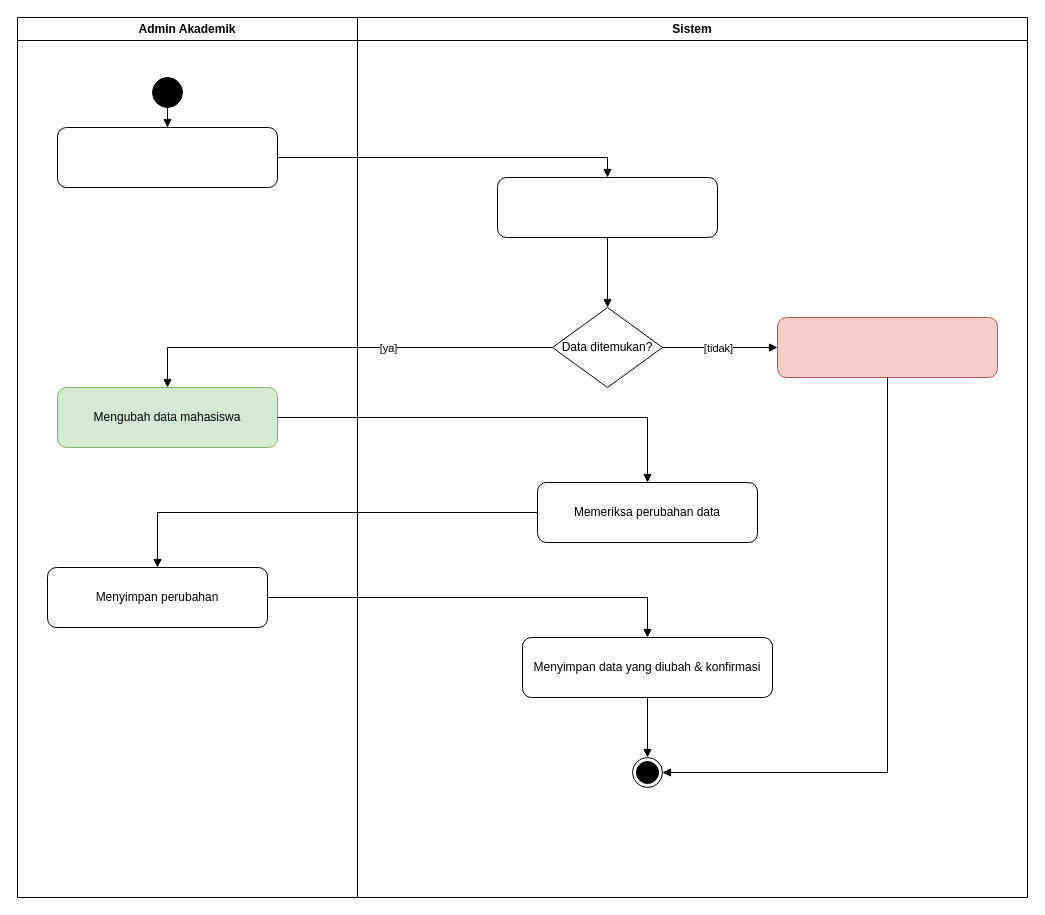
Some shapes in this 1045 by 915 pixel diagram are drawn without their labels. The shapes that lost their labels are listed below. From the top down, each one's centre as x and y in pixels, then its label:
At (167,157): "Memilih data mahasiswa yang akan diubah".
At (607,207): "Menampilkan data mahasiswa saat ini".
At (887,347): "Menampilkan pesan data tidak ditemukan".
